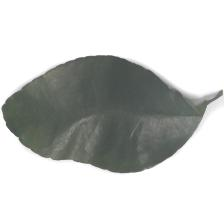healthy: (23, 72, 188, 173)
